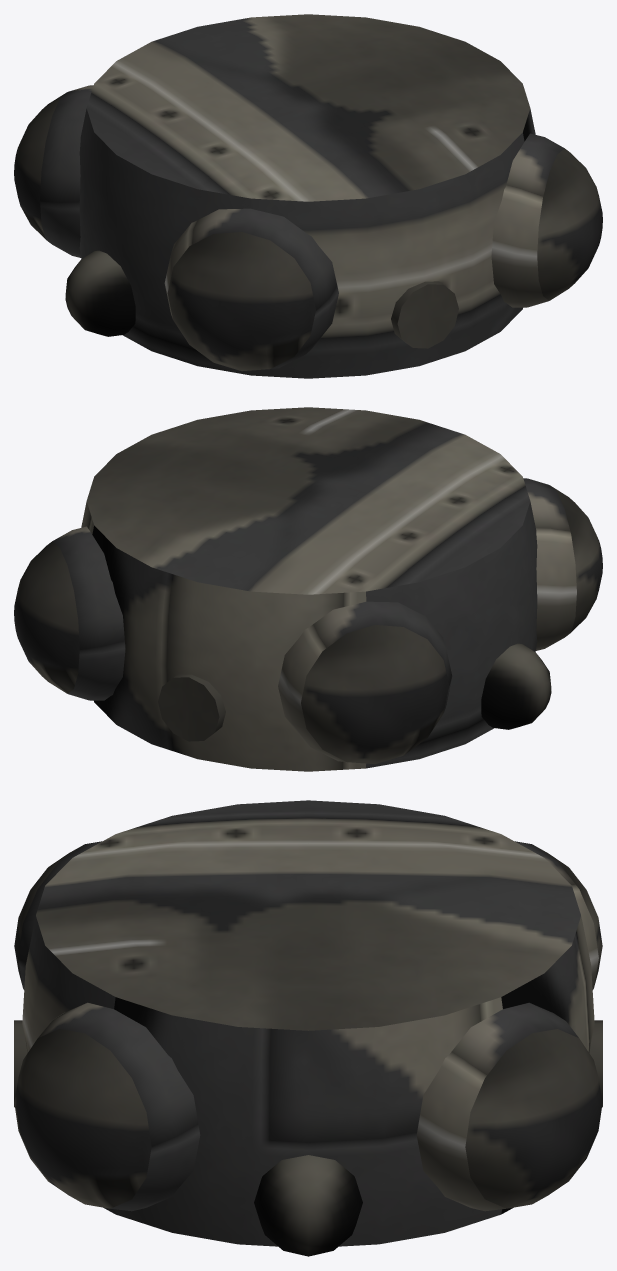
File: rcs_tank.fbx
3 views of the same model, one above another, from view 1: azimuth 30°, elevation 25°; view 2: azimuth 150°, elevation 25°; view 3: azimuth 270°, elevation 25° (orthographic). The views are drawn at different scales.
Visible parts, largest first — view 1: mesh; view 2: mesh; view 3: mesh.
Boxes of the visible parts, <box> form: mesh: <box>14,14,602,378</box>; mesh: <box>14,407,602,771</box>; mesh: <box>14,800,602,1256</box>.
Size of the model in its own units: 0.7723 by 0.3125 by 0.675.
